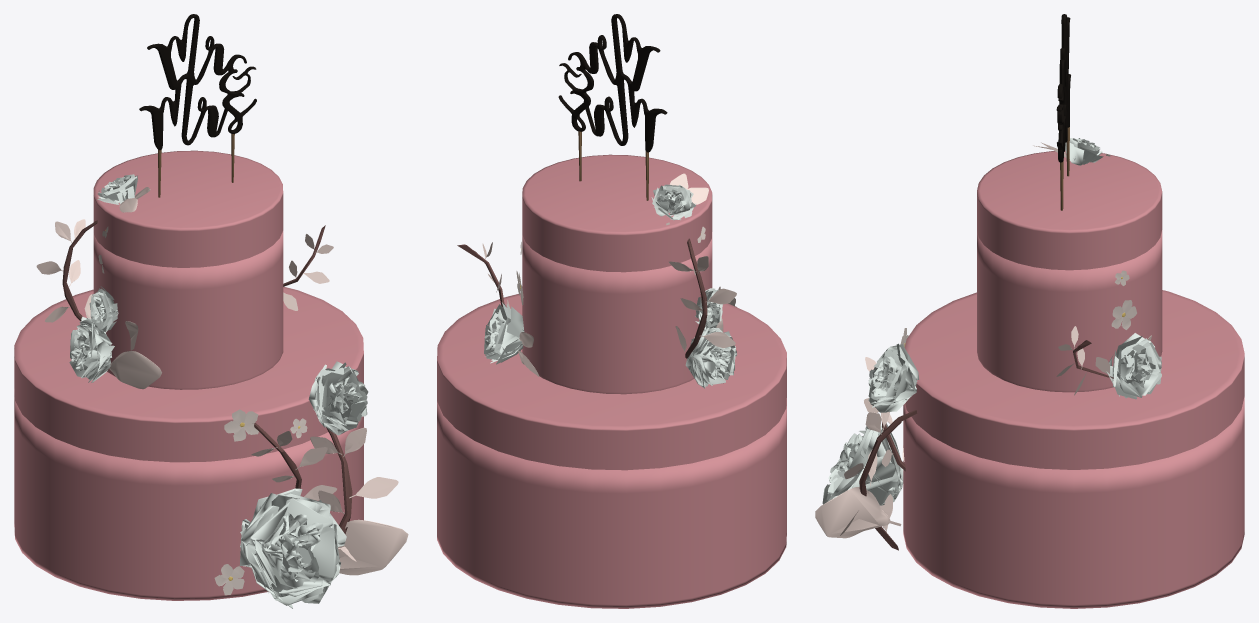
Rendered from 2-tier-blush-roses-mrms.glb.
The picture shows the model from 3 angles, left to right: view 1: azimuth 30°, elevation 25°; view 2: azimuth 150°, elevation 25°; view 3: azimuth 270°, elevation 25°; orthographic projection.
Parts seen in each view (by area): view 1: Cylinder.023, Cylinder.013, grid.025, mrms, grid.024, Plane.049, Plane.059, grid.026, Plane.056, Plane.058, Plane.052, Plane.045 (+4 smaller); view 2: Cylinder.023, Cylinder.013, mrms, grid.026, Plane.056, grid.028, grid.014, grid.027, Plane.045; view 3: Cylinder.023, Cylinder.013, grid.025, grid.028, Plane.049, grid.024, mrms, Plane.059, Plane.045, grid.014, Plane.058.
Part boxes in pixels (left/top/right/bottom): Cylinder.023: left=14, top=287, right=363, bottom=600; Cylinder.013: left=93, top=150, right=283, bottom=389; grid.025: left=239, top=488, right=346, bottom=608; mrms: left=139, top=14, right=256, bottom=197; grid.024: left=308, top=361, right=368, bottom=435; Plane.049: left=338, top=519, right=408, bottom=575; Plane.059: left=310, top=427, right=398, bottom=561; grid.026: left=69, top=316, right=114, bottom=382; Plane.056: left=36, top=219, right=97, bottom=322; Plane.058: left=251, top=423, right=336, bottom=500; Plane.052: left=109, top=351, right=161, bottom=389; Plane.045: left=283, top=225, right=333, bottom=310; Cylinder.023: left=437, top=293, right=786, bottom=608; Cylinder.013: left=522, top=154, right=712, bottom=394; mrms: left=558, top=14, right=667, bottom=200; grid.026: left=685, top=327, right=737, bottom=388; Plane.056: left=669, top=238, right=736, bottom=358; grid.028: left=484, top=302, right=524, bottom=364; grid.014: left=651, top=184, right=696, bottom=220; grid.027: left=695, top=288, right=722, bottom=332; Plane.045: left=457, top=242, right=509, bottom=307; Cylinder.023: left=903, top=290, right=1244, bottom=608; Cylinder.013: left=977, top=150, right=1162, bottom=392; grid.025: left=822, top=419, right=903, bottom=505; grid.028: left=1106, top=333, right=1161, bottom=399; Plane.049: left=815, top=487, right=901, bottom=538; grid.024: left=868, top=343, right=919, bottom=412; mrms: left=1056, top=14, right=1070, bottom=210; Plane.059: left=840, top=410, right=917, bottom=550; Plane.045: left=1056, top=326, right=1113, bottom=395; grid.014: left=1065, top=138, right=1103, bottom=165; Plane.058: left=864, top=357, right=905, bottom=471.
Bounding box in the file's own units: 3.4 × 5.61 × 4.11.
